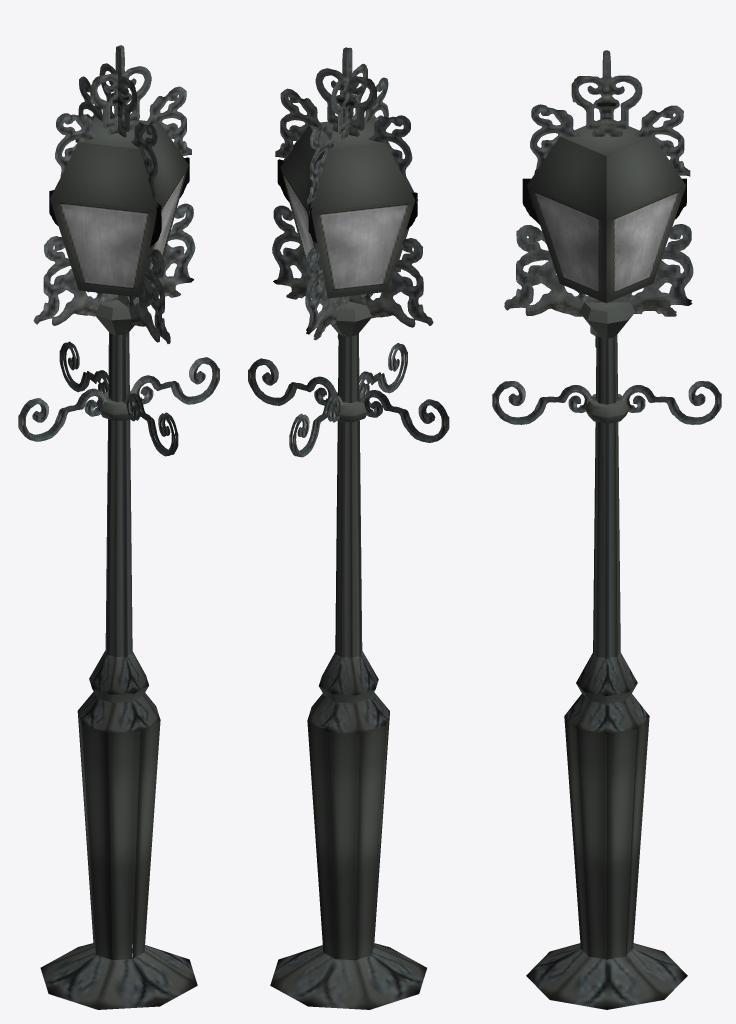
File: lantaarn 4.fbx
The picture shows the model from 3 angles, left to right: view 1: azimuth 30°, elevation 25°; view 2: azimuth 150°, elevation 25°; view 3: azimuth 270°, elevation 25°; orthographic projection.
Parts seen in each view (by area): view 1: Mesh Object; view 2: Mesh Object; view 3: Mesh Object.
Part boxes in pixels (<box>): Mesh Object: <box>18,45,219,1009</box>; Mesh Object: <box>248,47,449,1009</box>; Mesh Object: <box>492,50,721,1009</box>.
Bounding box in the file's own units: 0.7025 × 3.07 × 0.721.
